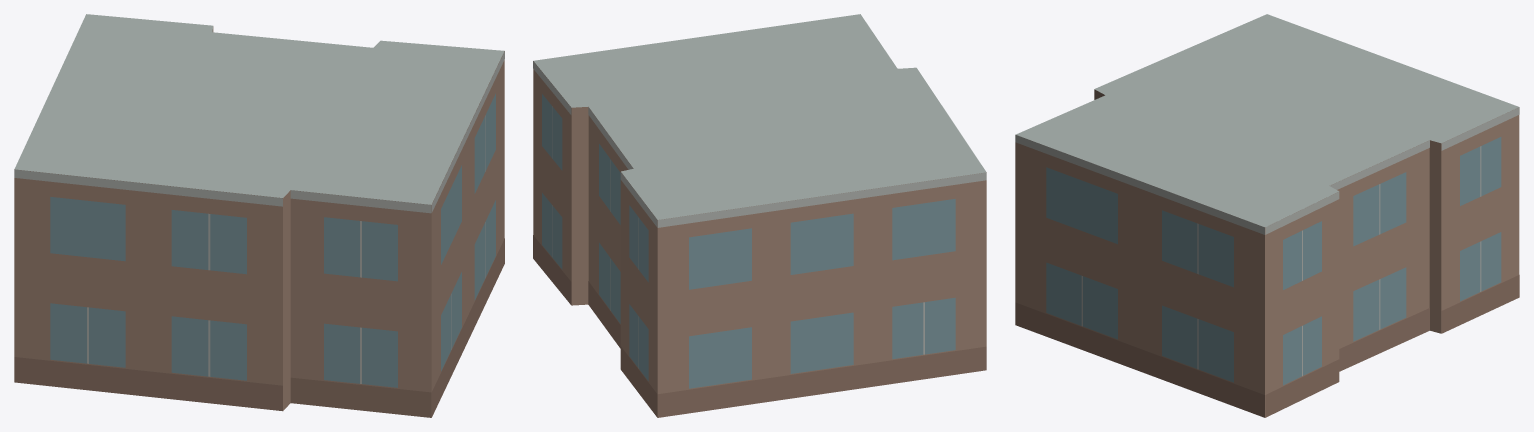
File: survey-upis-32691460.glb
3 views of the same model, side by side, from view 1: azimuth 30°, elevation 25°; view 2: azimuth 150°, elevation 25°; view 3: azimuth 270°, elevation 25° (orthographic). The views are drawn at different scales.
Visible parts, largest first — view 1: survey-upis-32691460.tmp; view 2: survey-upis-32691460.tmp; view 3: survey-upis-32691460.tmp.
Part boxes in pixels (box(x1,y1,x2,y2)): survey-upis-32691460.tmp: box(14, 14, 504, 417); survey-upis-32691460.tmp: box(533, 14, 986, 417); survey-upis-32691460.tmp: box(1015, 14, 1519, 417).
Bounding box in the file's own units: 14.67 × 6.1 × 14.64.
